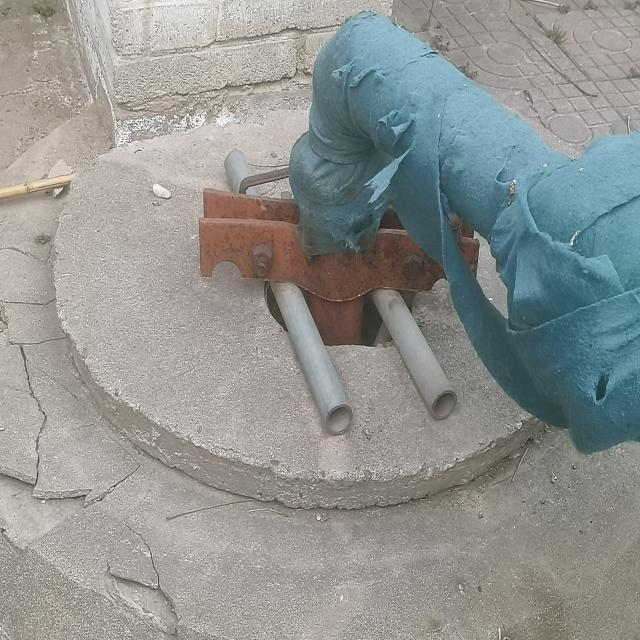blur bolt: (250, 242, 274, 275), (402, 253, 424, 283)
